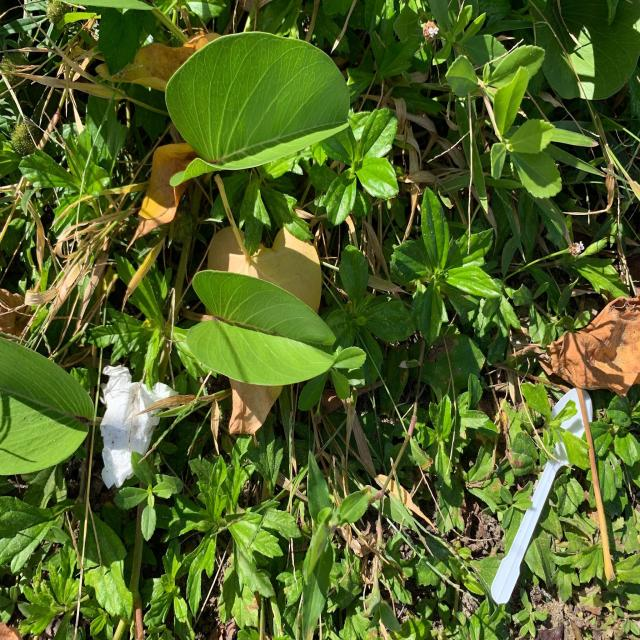litter: (491, 386, 593, 607), (103, 364, 168, 480)
